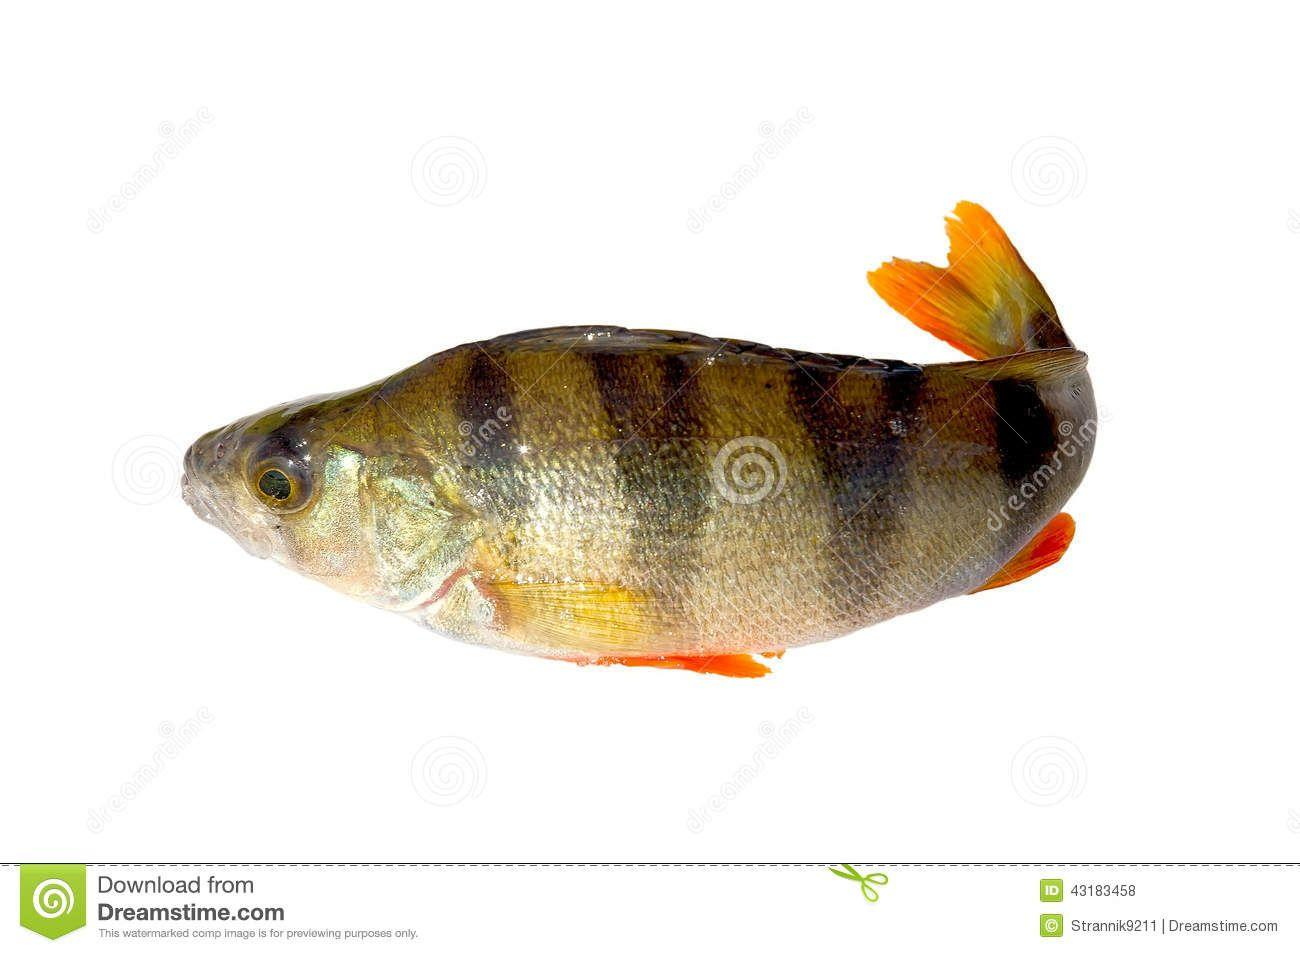Perch: (181, 200, 1110, 690)
